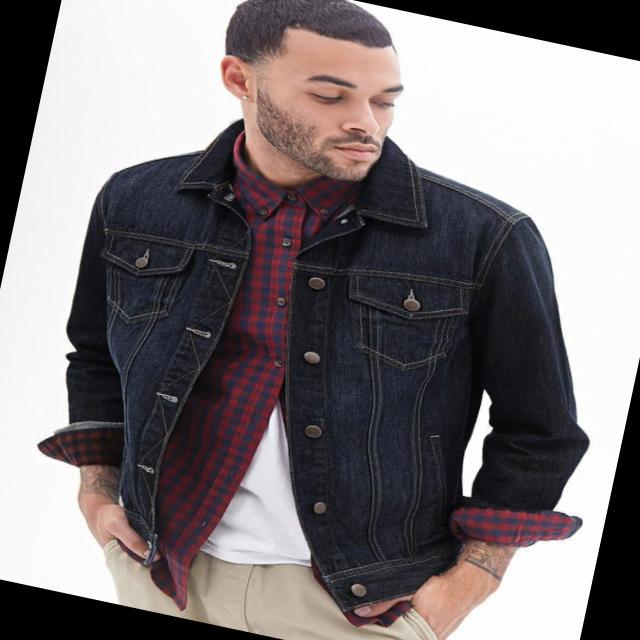Jacket: (11, 104, 621, 618)
